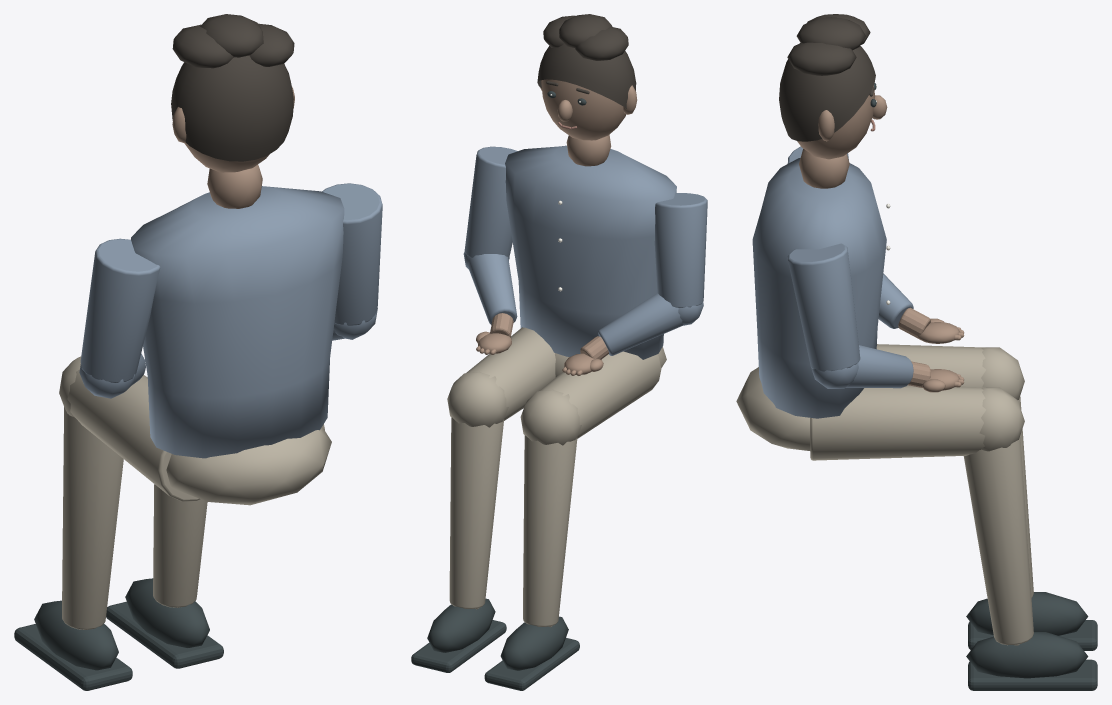
Rendered from GuestNavy.fbx.
The picture shows the model from 3 angles, left to right: view 1: azimuth 30°, elevation 25°; view 2: azimuth 150°, elevation 25°; view 3: azimuth 270°, elevation 25°; orthographic projection. The views are drawn at different scales.
Visible parts, largest first — view 1: Tailored shirt, Trousers lower leg, Shaped swept hair, Shirt upper sleeve, Pelvis trousers, Trousers upper leg, Shirt upper sleeve.001, Trousers lower leg.001, Shoe upper, Shoe upper.001, Shoe sole, Shoe sole.001 (+7 smaller); view 2: Tailored shirt, Trousers lower leg.001, Trousers lower leg, Shirt upper sleeve, Trousers upper leg, Shirt upper sleeve.001, Trousers upper leg.001, Shaped swept hair, Adult head, Shirt fore sleeve, Bent knee.001, Bent knee (+10 smaller); view 3: Tailored shirt, Trousers upper leg.001, Trousers lower leg.001, Shirt upper sleeve.001, Shaped swept hair, Shoe upper.001, Pelvis trousers, Shoe upper, Shoe sole.001, Trousers upper leg, Bent knee.001, Shirt fore sleeve.001 (+11 smaller).
Part boxes in pixels (<box>): Tailored shirt: <box>131,186,344,458</box>; Trousers lower leg: <box>62,406,123,629</box>; Shaped swept hair: <box>171,55,293,161</box>; Shirt upper sleeve: <box>80,238,160,382</box>; Pelvis trousers: <box>166,427,331,505</box>; Trousers upper leg: <box>67,369,200,501</box>; Shirt upper sleeve.001: <box>322,183,382,325</box>; Trousers lower leg.001: <box>153,484,207,607</box>; Shoe upper: <box>34,600,118,670</box>; Shoe upper.001: <box>125,578,209,647</box>; Shoe sole: <box>14,624,132,690</box>; Shoe sole.001: <box>106,601,223,668</box>; Tailored shirt: <box>505,145,676,359</box>; Trousers lower leg.001: <box>449,417,503,608</box>; Trousers lower leg: <box>523,435,577,626</box>; Shirt upper sleeve: <box>654,193,707,307</box>; Trousers upper leg: <box>539,351,661,438</box>; Shirt upper sleeve.001: <box>464,146,517,258</box>; Trousers upper leg.001: <box>466,327,555,420</box>; Shaped swept hair: <box>537,43,636,108</box>; Adult head: <box>541,79,626,140</box>; Shirt fore sleeve: <box>598,293,683,355</box>; Bent knee.001: <box>447,371,508,427</box>; Bent knee: <box>520,389,581,445</box>; Tailored shirt: <box>752,158,886,418</box>; Trousers upper leg.001: <box>810,385,985,460</box>; Trousers lower leg.001: <box>963,436,1033,645</box>; Shirt upper sleeve.001: <box>787,243,860,371</box>; Shaped swept hair: <box>779,46,875,141</box>; Shoe upper.001: <box>966,632,1088,678</box>; Pelvis trousers: <box>736,367,810,450</box>; Shoe upper: <box>966,592,1088,635</box>; Shoe sole.001: <box>968,659,1097,690</box>; Trousers upper leg: <box>876,344,985,387</box>; Bent knee.001: <box>979,387,1024,451</box>; Shirt fore sleeve.001: <box>846,345,913,388</box>.
Size of the model in its own units: 64.84 by 153 by 78.
